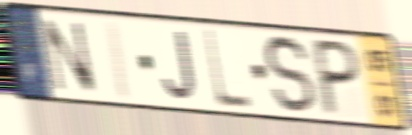I: (103, 17, 134, 103)
J: (161, 29, 199, 104)
L: (201, 26, 254, 112)
N: (39, 16, 100, 97)
P: (312, 35, 362, 119)
S: (262, 32, 318, 117)
